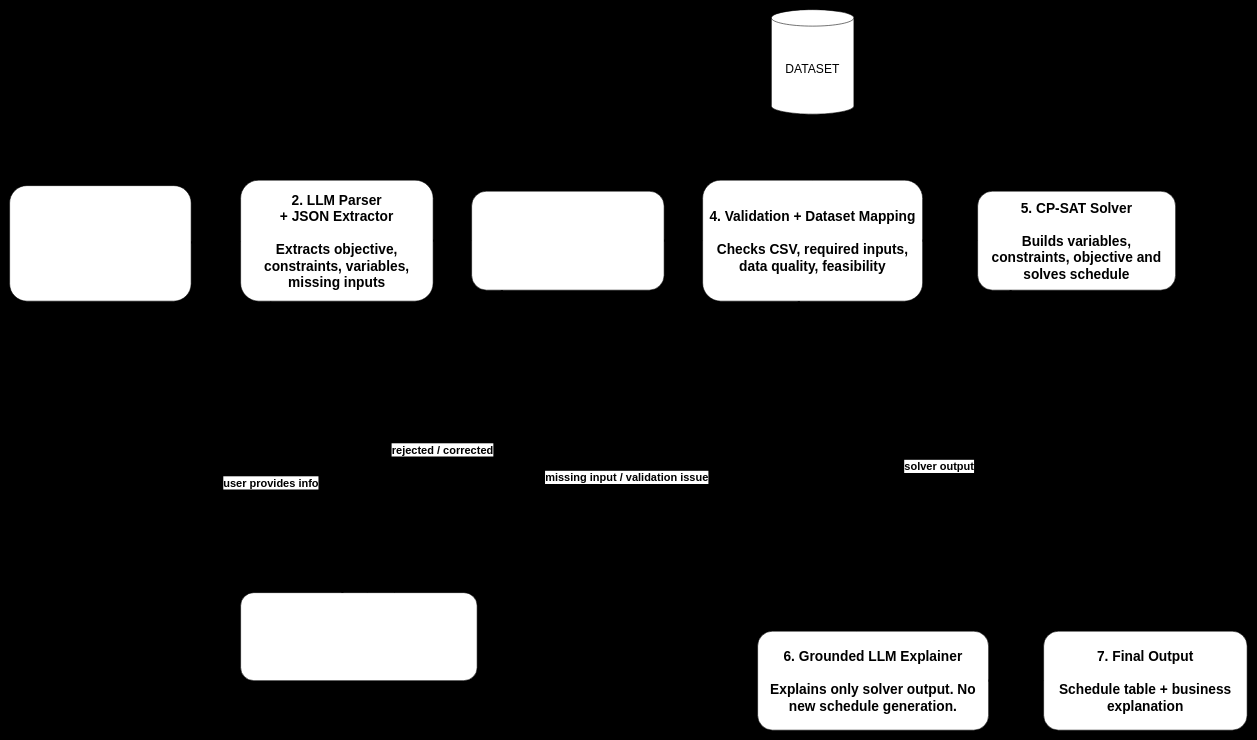
The diagram is 1257 pixels wide and 740 high, and some of its shapes have lost their labels. Each missing label, with the centre of its shape:
1. User Question Production scheduling request: the point at 100,243
3. User Confirmation User approves or corrects extracted JSON summary: the point at 567,240
Ask Back Loop If missing input or user rejects extraction, ask user again: the point at 358,636
